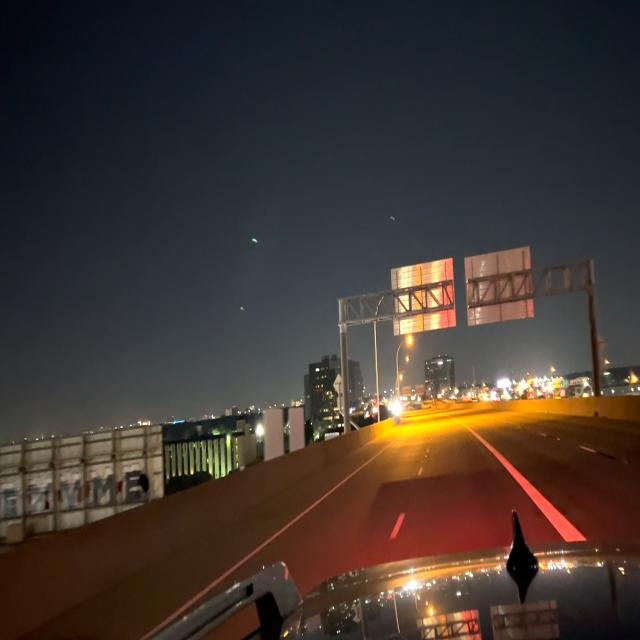back-of-sign: (466, 245, 535, 339), (391, 257, 455, 344)
